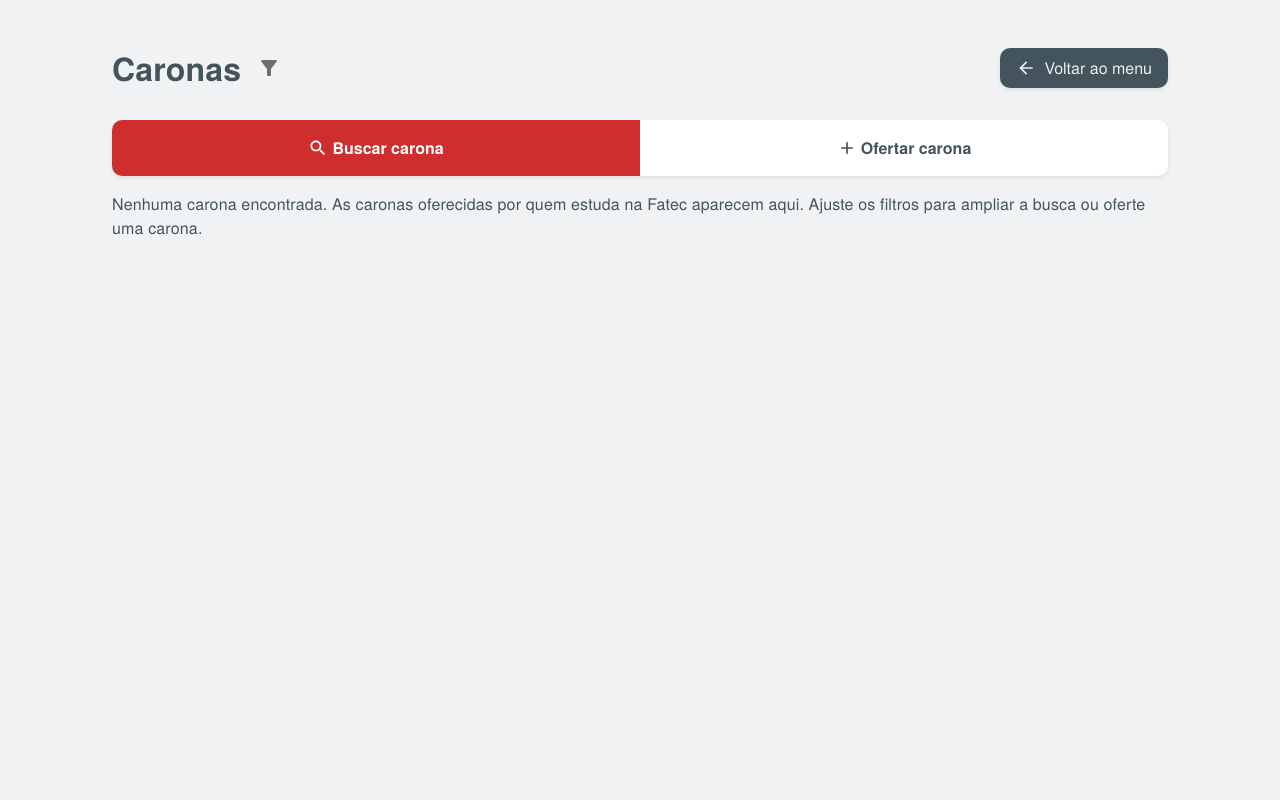
Test: Rides › should drop every filter when the search is cleared
Expected: the text "Nenhuma carona encontrada. As caronas oferecidas por quem estuda na Fatec aparecem aqui. Ajuste os filtros para ampliar " is shown, [112,192,1145,239]
Click the button named "Filtros" at (269, 68), box [249,48,289,88]
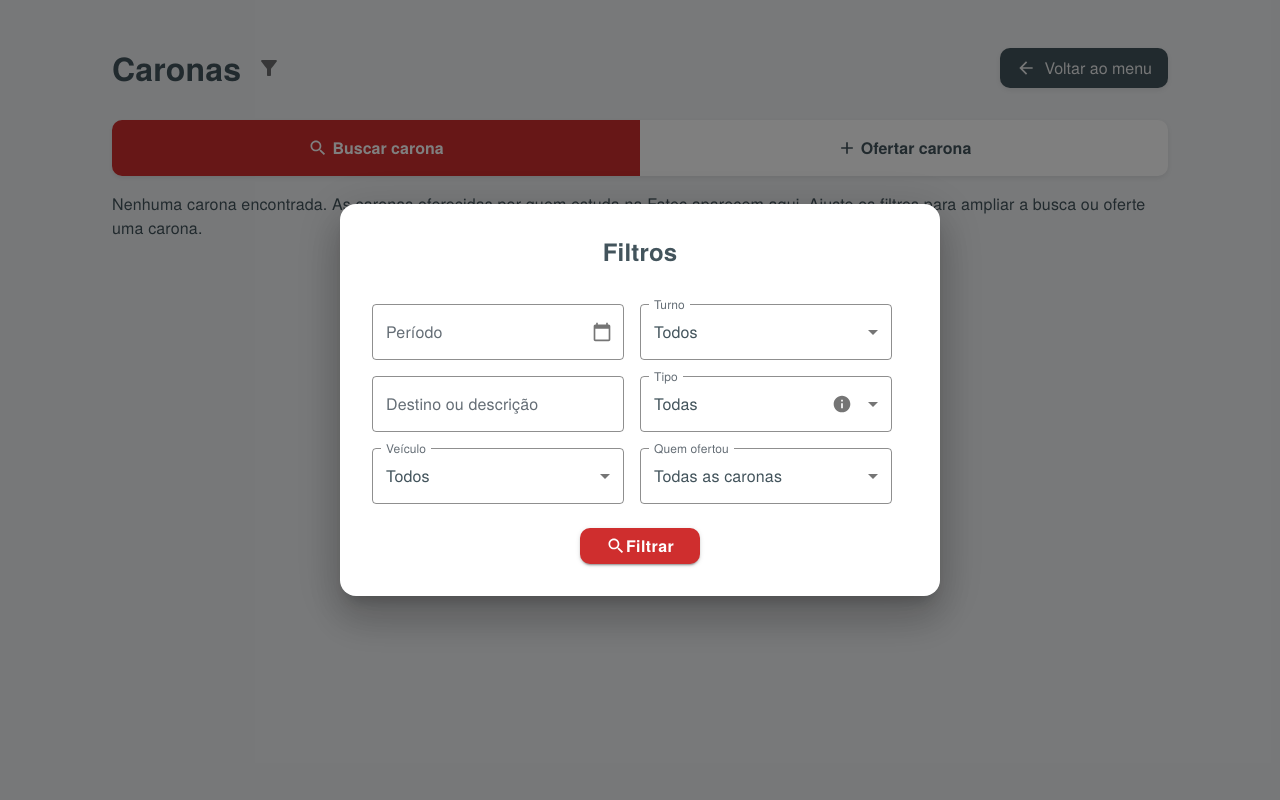
Result: the dialog is shown at [340,204,940,596]
Type "Sorocaba" into the field labelled "Destino ou descrição" at (498, 404), box [372,376,624,432]
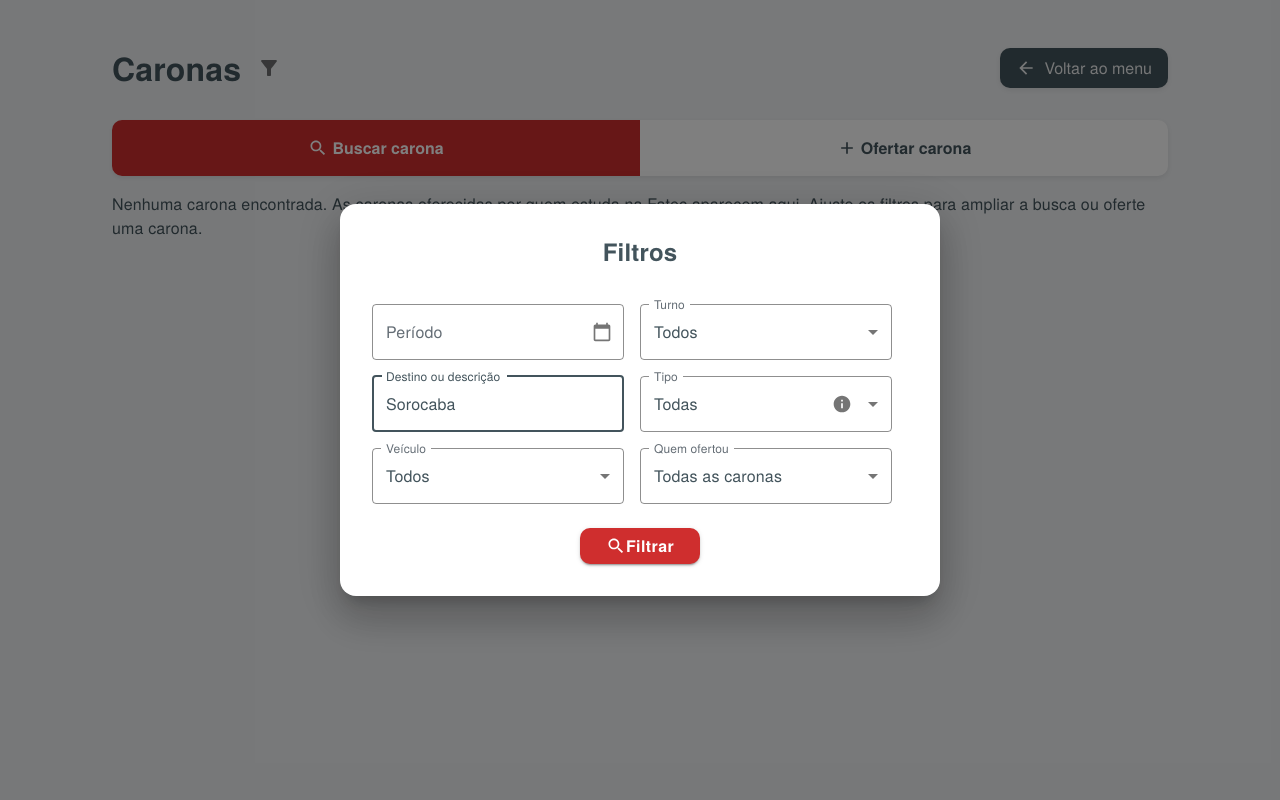
Click the button "Filtrar" at (640, 546), box [580,528,700,564]
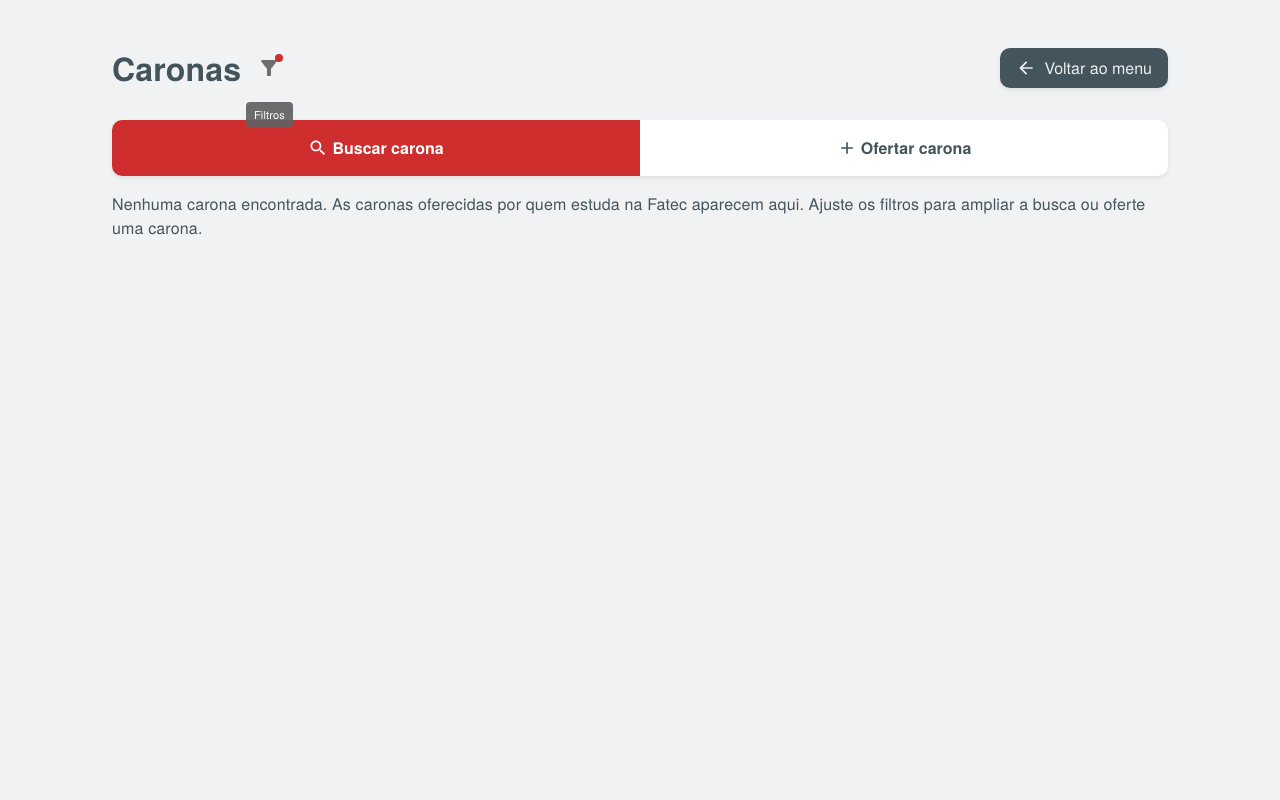
Result: the dialog is gone
Click the button named "Filtros" at (269, 68), box [249,48,289,88]
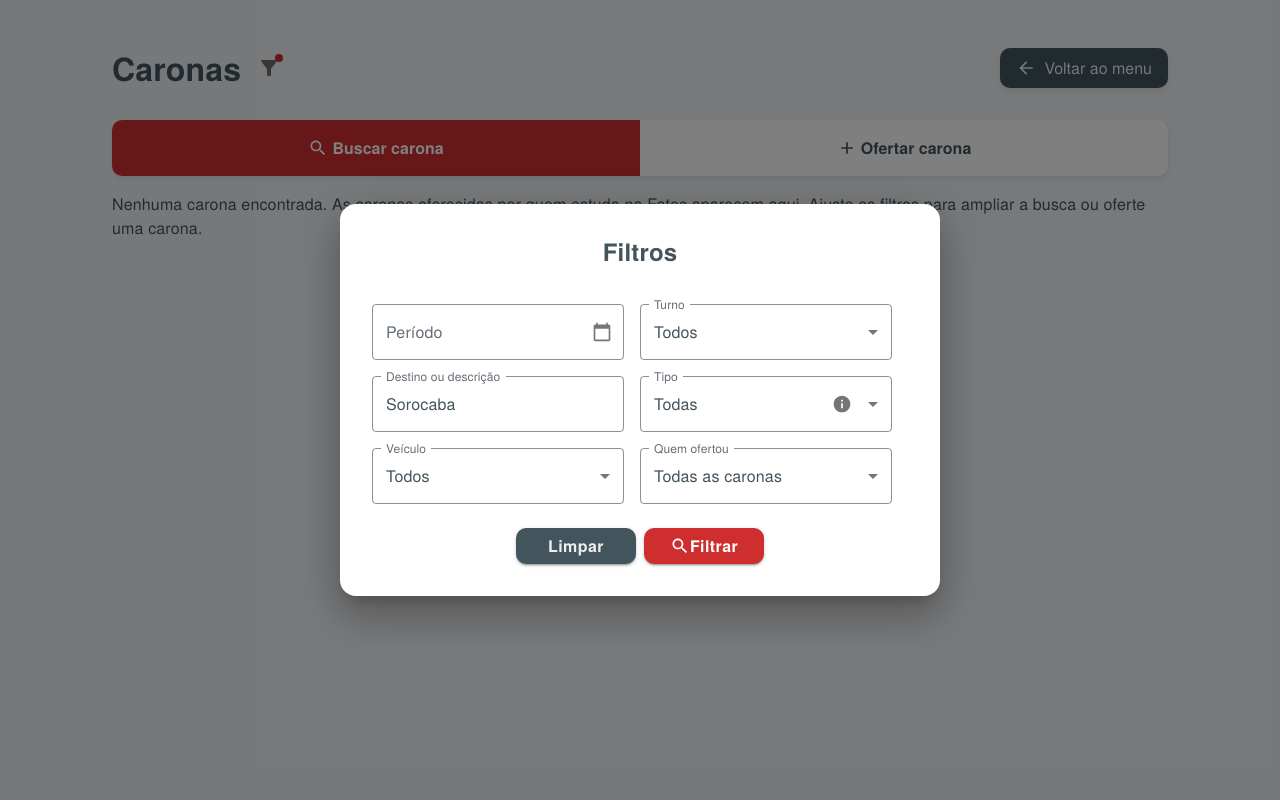
Result: the dialog is shown at [340,204,940,596]
Click the button "Limpar" at (576, 546), box [516,528,636,564]
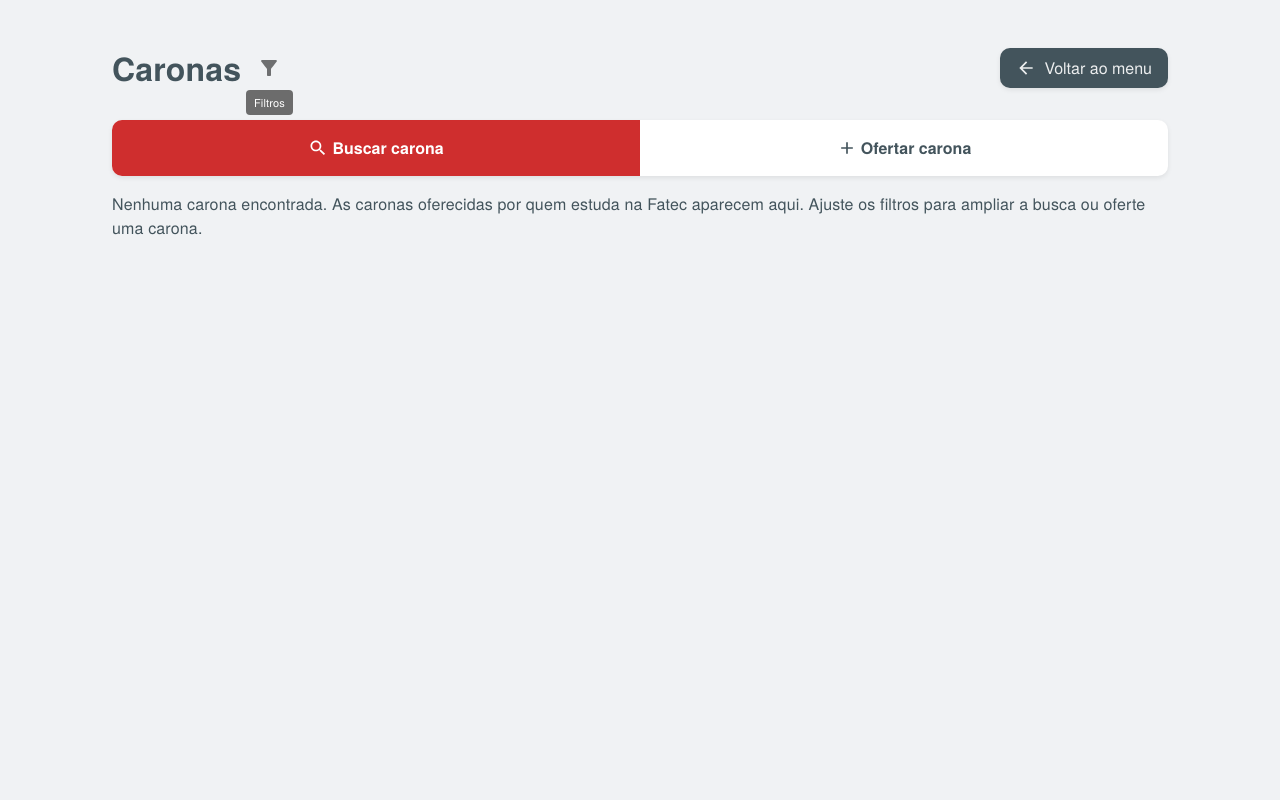
Result: the dialog is gone
